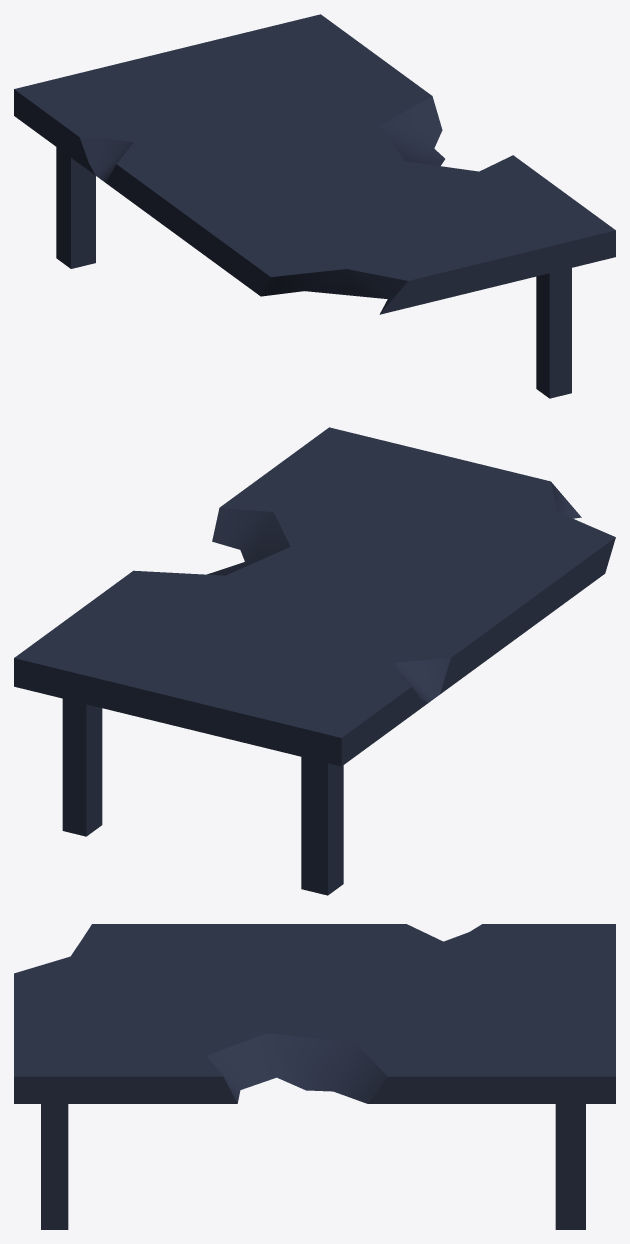
The model's file is tableBroken.fbx.
The picture shows the model from 3 angles, top to bottom: view 1: azimuth 30°, elevation 25°; view 2: azimuth 150°, elevation 25°; view 3: azimuth 270°, elevation 25°; orthographic projection. The views are drawn at different scales.
Visible parts, largest first — view 1: table_broken_1; view 2: table_broken_1; view 3: table_broken_1.
Boxes of the visible parts, x1,y1,x2,y2 form: table_broken_1: [14, 14, 615, 398]; table_broken_1: [14, 427, 615, 895]; table_broken_1: [14, 924, 615, 1229].
Bounding box in the file's own units: 6 × 3.09 × 10.
